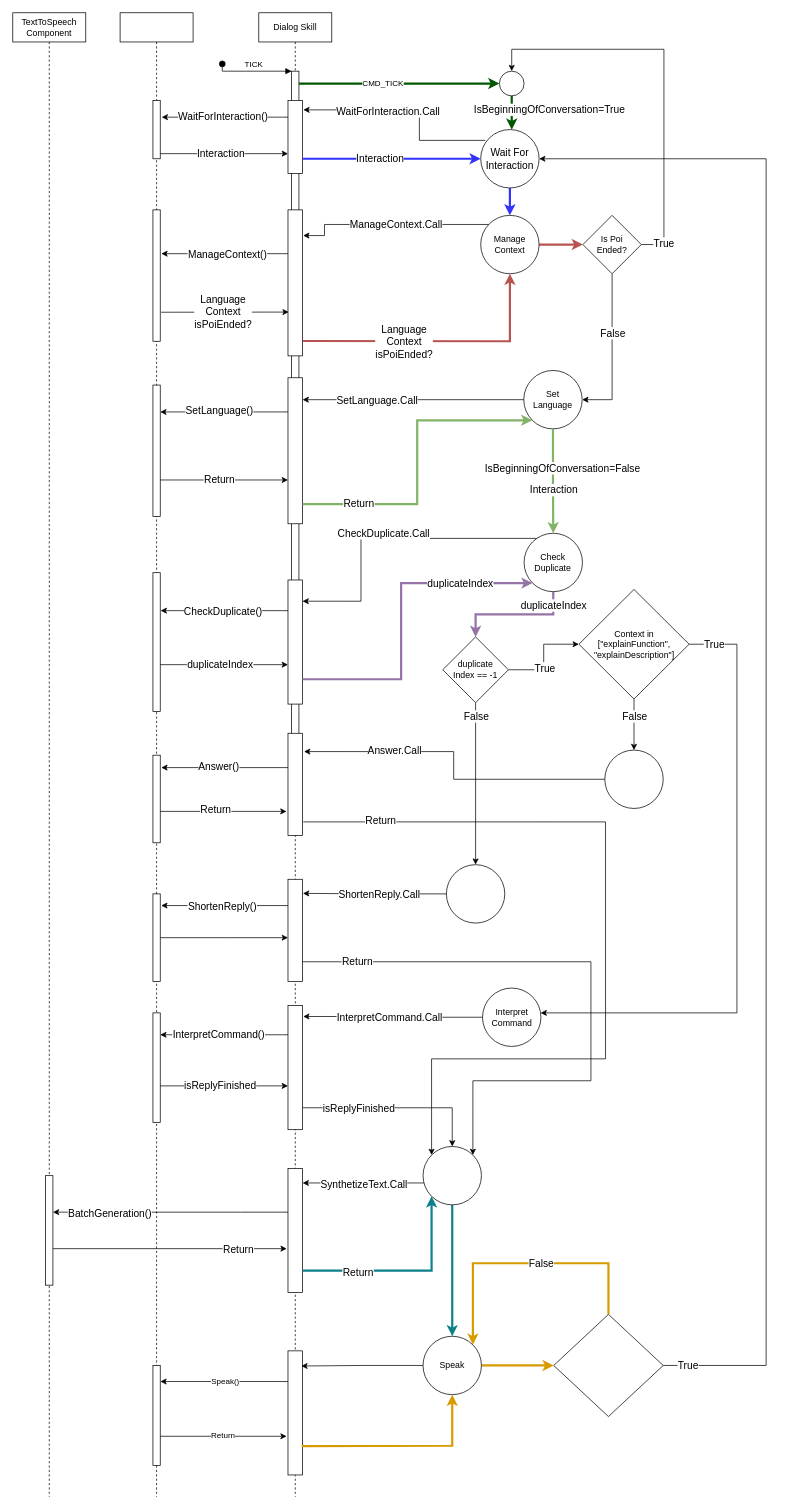
Some shapes in this 785 by 1510 pixel diagram are drawn without their labels. The centre of each missing label's shape, as x and y in pixels:
Answer: pixel 633 778
Dialog Component: pixel 156 754
IDLE: pixel 511 83
is reply finished?: pixel 608 1365
Shorten Reply: pixel 475 893
Synthesize Text: pixel 451 1175
